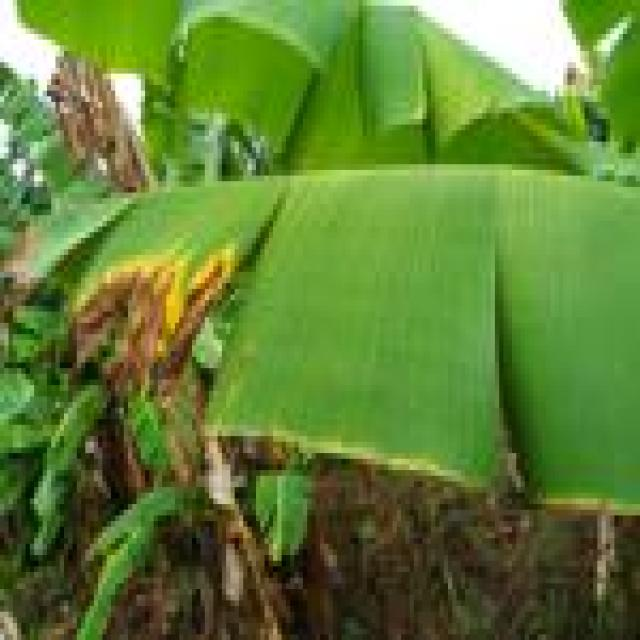Early_rust: (0, 24, 239, 383)
